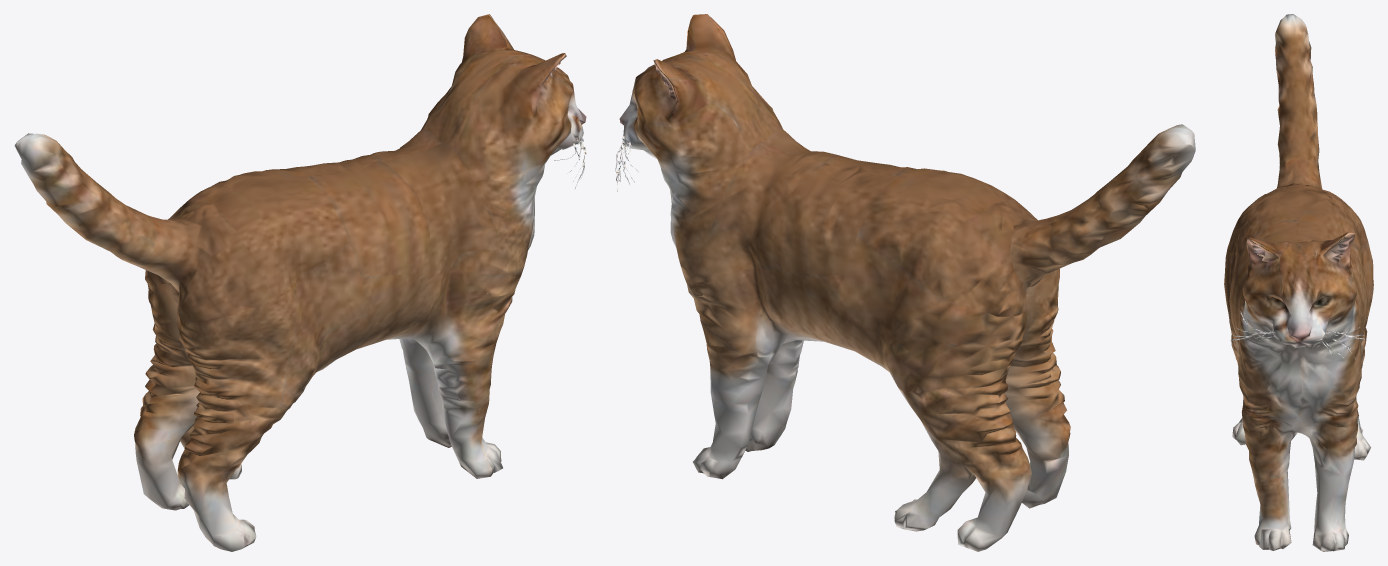
File: KOTECHAN-lo.glb
3 renders of one model, left to right at view 1: azimuth 30°, elevation 25°; view 2: azimuth 150°, elevation 25°; view 3: azimuth 270°, elevation 25°, orthographic. The views are drawn at different scales.
Parts seen in each view (by area): view 1: tripo_node_735d46e7-e4b2-4c5b-8dec-31e4eb69c3b8; view 2: tripo_node_735d46e7-e4b2-4c5b-8dec-31e4eb69c3b8; view 3: tripo_node_735d46e7-e4b2-4c5b-8dec-31e4eb69c3b8.
Part boxes in pixels (left/top/right/bottom): tripo_node_735d46e7-e4b2-4c5b-8dec-31e4eb69c3b8: left=14, top=14, right=586, bottom=551; tripo_node_735d46e7-e4b2-4c5b-8dec-31e4eb69c3b8: left=615, top=14, right=1195, bottom=551; tripo_node_735d46e7-e4b2-4c5b-8dec-31e4eb69c3b8: left=1224, top=14, right=1373, bottom=551.
Size of the model in its own units: 1.37 by 0.9961 by 0.3798.
Materials: 1 (1 with a texture image).
